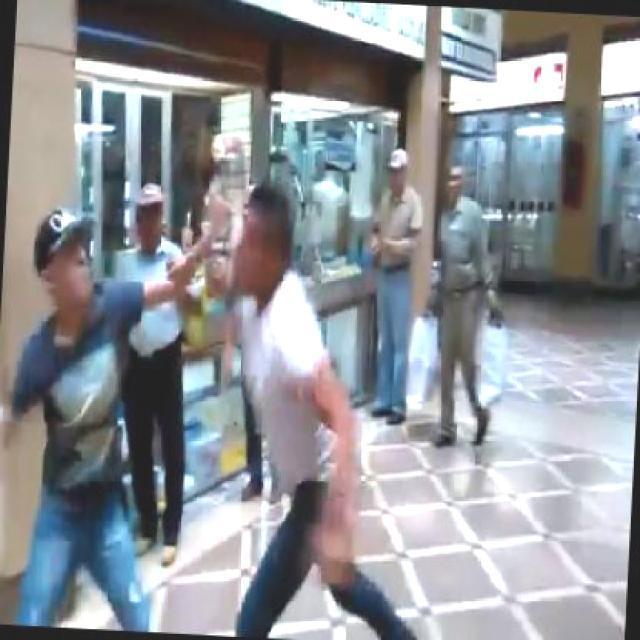fight: (0, 172, 382, 638)
